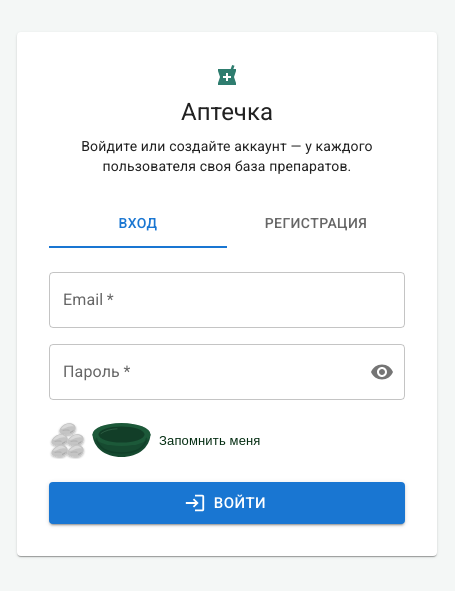
Test: AuthPage › displays an API error when login fails
The image size is (455, 591).
Type "test@example.com" into the field labelled "Email *" at (227, 300), box [49,272,405,328]
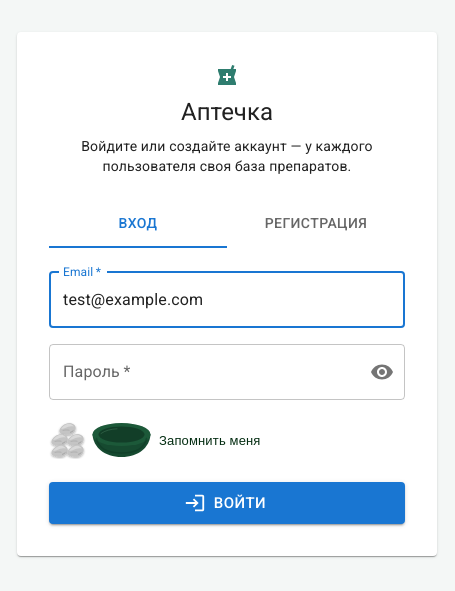
Type "Password1!" into the password field labelled "Пароль *" at (227, 372), box [49,344,405,400]
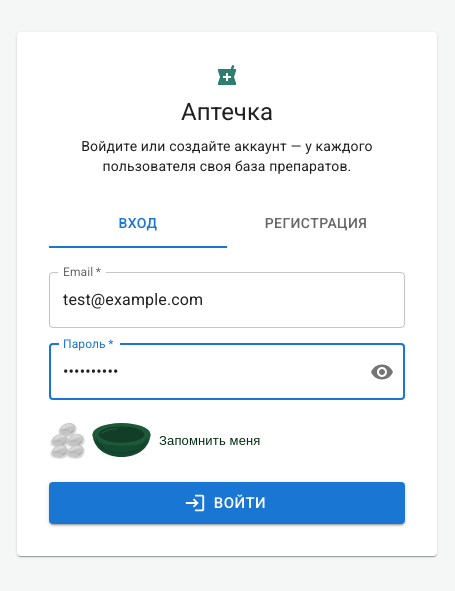
Click the button "Войти" at (227, 503), box [49,482,405,524]
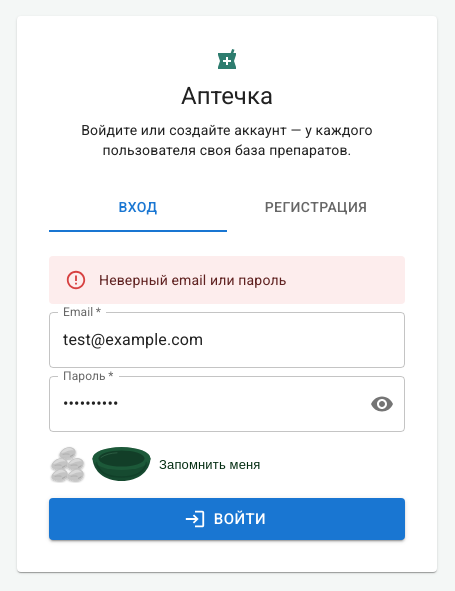
Expected: the text "Неверный email или пароль" is shown, [99,272,286,288]
